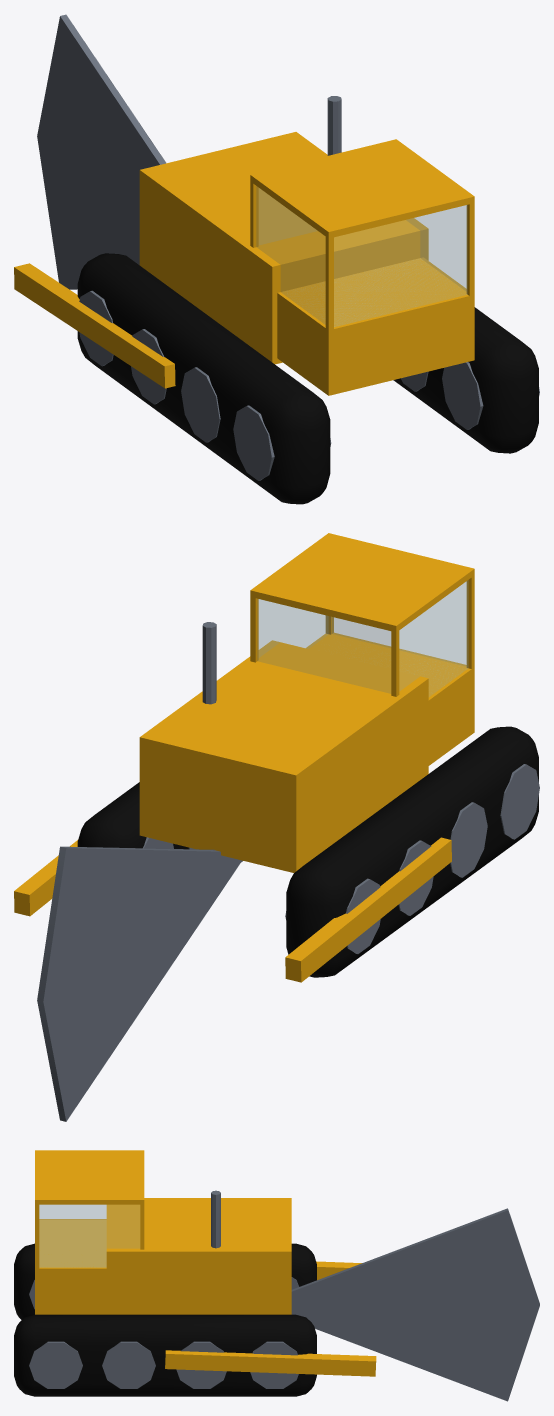
File: plant.earthmoving.bulldozer.glb
3 renders of one model, top to bottom at view 1: azimuth 30°, elevation 25°; view 2: azimuth 150°, elevation 25°; view 3: azimuth 270°, elevation 25°, orthographic. The views are drawn at different scales.
Visible parts, largest first — view 1: main__plant_yellow, main__rubber, main__steel_painted, main__glass; view 2: main__plant_yellow, main__steel_painted, main__rubber, main__glass; view 3: main__plant_yellow, main__steel_painted, main__rubber, main__glass.
Boxes of the visible parts, x1,y1,x2,y2 form: main__plant_yellow: (14,132,474,395); main__rubber: (77,253,538,504); main__steel_painted: (37,14,539,480); main__glass: (256,186,467,326); main__plant_yellow: (14,533,474,982); main__steel_painted: (37,622,539,1121); main__rubber: (77,726,538,977); main__glass: (257,580,468,696); main__plant_yellow: (35,1150,376,1376); main__steel_painted: (29,1190,539,1401); main__rubber: (14,1243,316,1396); main__glass: (39,1205,139,1267).
Bounding box in the file's own units: 2.75 × 3 × 6.25.
